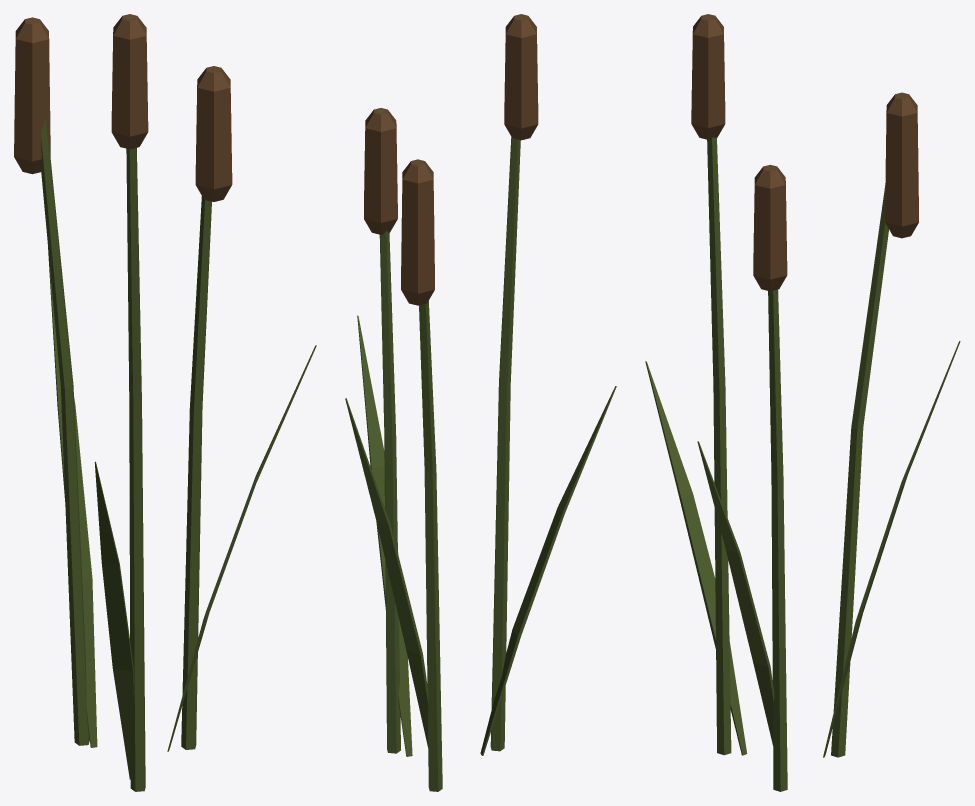
File: plant_006a_cattail.glb
3 views of the same model, side by side, from view 1: azimuth 30°, elevation 25°; view 2: azimuth 150°, elevation 25°; view 3: azimuth 270°, elevation 25° (orthographic). The views are drawn at different scales.
Visible parts, largest first — view 1: plant_006a_cattail__stalks, plant_006a_cattail__seed_heads, plant_006a_cattail__leaves; view 2: plant_006a_cattail__stalks, plant_006a_cattail__seed_heads, plant_006a_cattail__leaves; view 3: plant_006a_cattail__stalks, plant_006a_cattail__seed_heads, plant_006a_cattail__leaves.
Part boxes in pixels (bbox=[...]): plant_006a_cattail__stalks: bbox=[29, 15, 217, 791]; plant_006a_cattail__seed_heads: bbox=[14, 14, 232, 201]; plant_006a_cattail__leaves: bbox=[48, 248, 316, 779]; plant_006a_cattail__stalks: bbox=[377, 16, 523, 791]; plant_006a_cattail__seed_heads: bbox=[364, 14, 538, 305]; plant_006a_cattail__leaves: bbox=[345, 315, 616, 756]; plant_006a_cattail__stalks: bbox=[705, 16, 902, 791]; plant_006a_cattail__seed_heads: bbox=[691, 14, 918, 291]; plant_006a_cattail__leaves: bbox=[645, 341, 960, 757].
Size of the model in its own units: 0.4652 by 1.39 by 0.5461.
